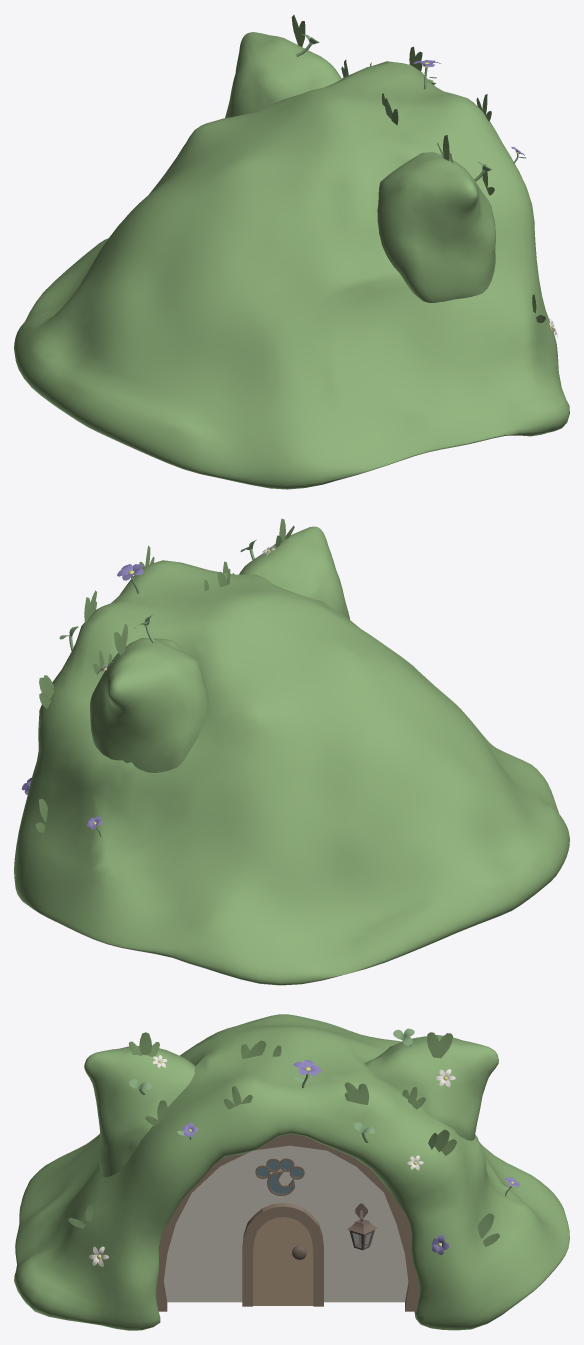
File: Casa_v5.fbx
The picture shows the model from 3 angles, top to bottom: view 1: azimuth 30°, elevation 25°; view 2: azimuth 150°, elevation 25°; view 3: azimuth 270°, elevation 25°; orthographic projection. The views are drawn at different scales.
Parts seen in each view (by area): view 1: Casa_pasto, Casa_Oreja, Casa_Oreja1; view 2: Casa_pasto, Casa_Oreja1, Casa_Oreja; view 3: Casa_pasto, Pared, Casa_Oreja, Casa_Oreja1, Puerta, Techo1, Puerta1.
Part boxes in pixels (bbox=[...]): Casa_pasto: bbox=[14, 61, 569, 489]; Casa_Oreja: bbox=[377, 152, 495, 302]; Casa_Oreja1: bbox=[225, 32, 341, 117]; Casa_pasto: bbox=[14, 560, 569, 985]; Casa_Oreja1: bbox=[90, 638, 208, 772]; Casa_Oreja: bbox=[239, 526, 349, 619]; Casa_pasto: bbox=[14, 1014, 569, 1330]; Pared: bbox=[163, 1145, 408, 1302]; Casa_Oreja: bbox=[84, 1046, 194, 1177]; Casa_Oreja1: bbox=[364, 1035, 498, 1140]; Puerta: bbox=[253, 1217, 313, 1305]; Techo1: bbox=[156, 1134, 419, 1311]; Puerta1: bbox=[242, 1202, 323, 1306].
Bounding box in the file's own units: 13.29 × 8.16 × 15.66.
